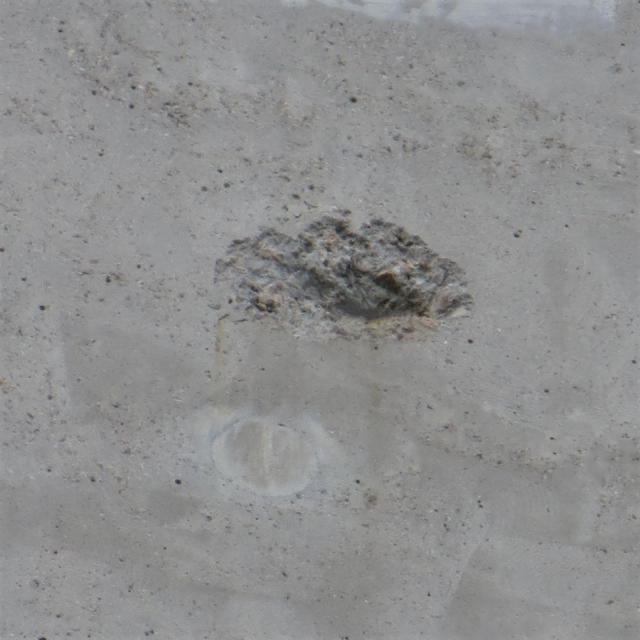concrete spalling: (210, 212, 472, 347)
